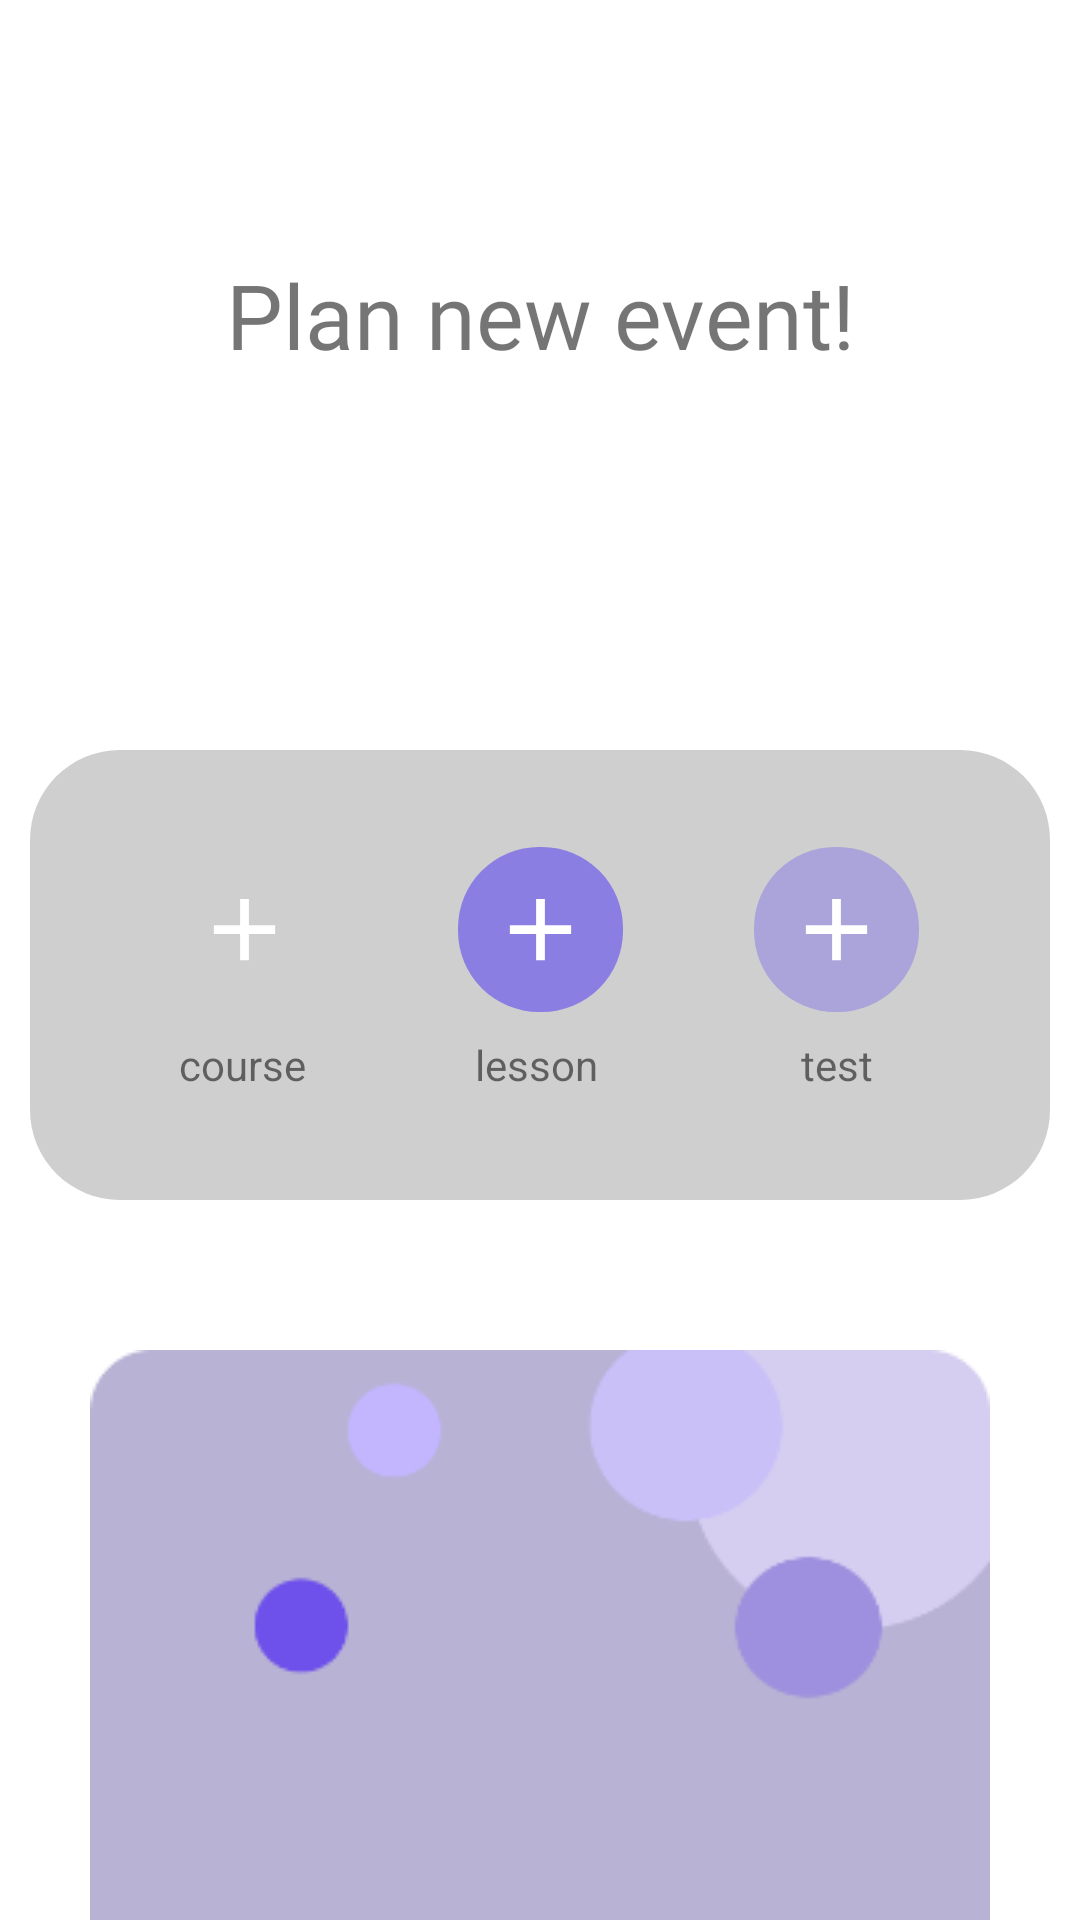

Named icons in this screenshot (1080px x 1920px) and their centers, (x,y):
add: (540,929), (836,929), (244,929)
